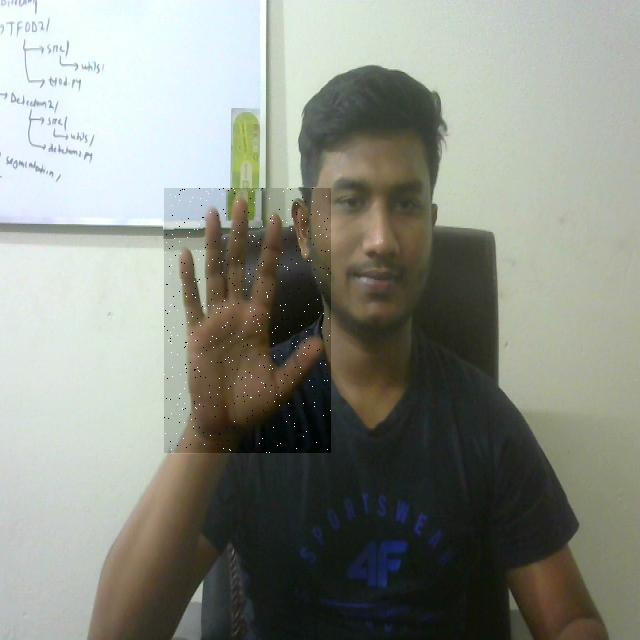Hello: (164, 188, 331, 453)
